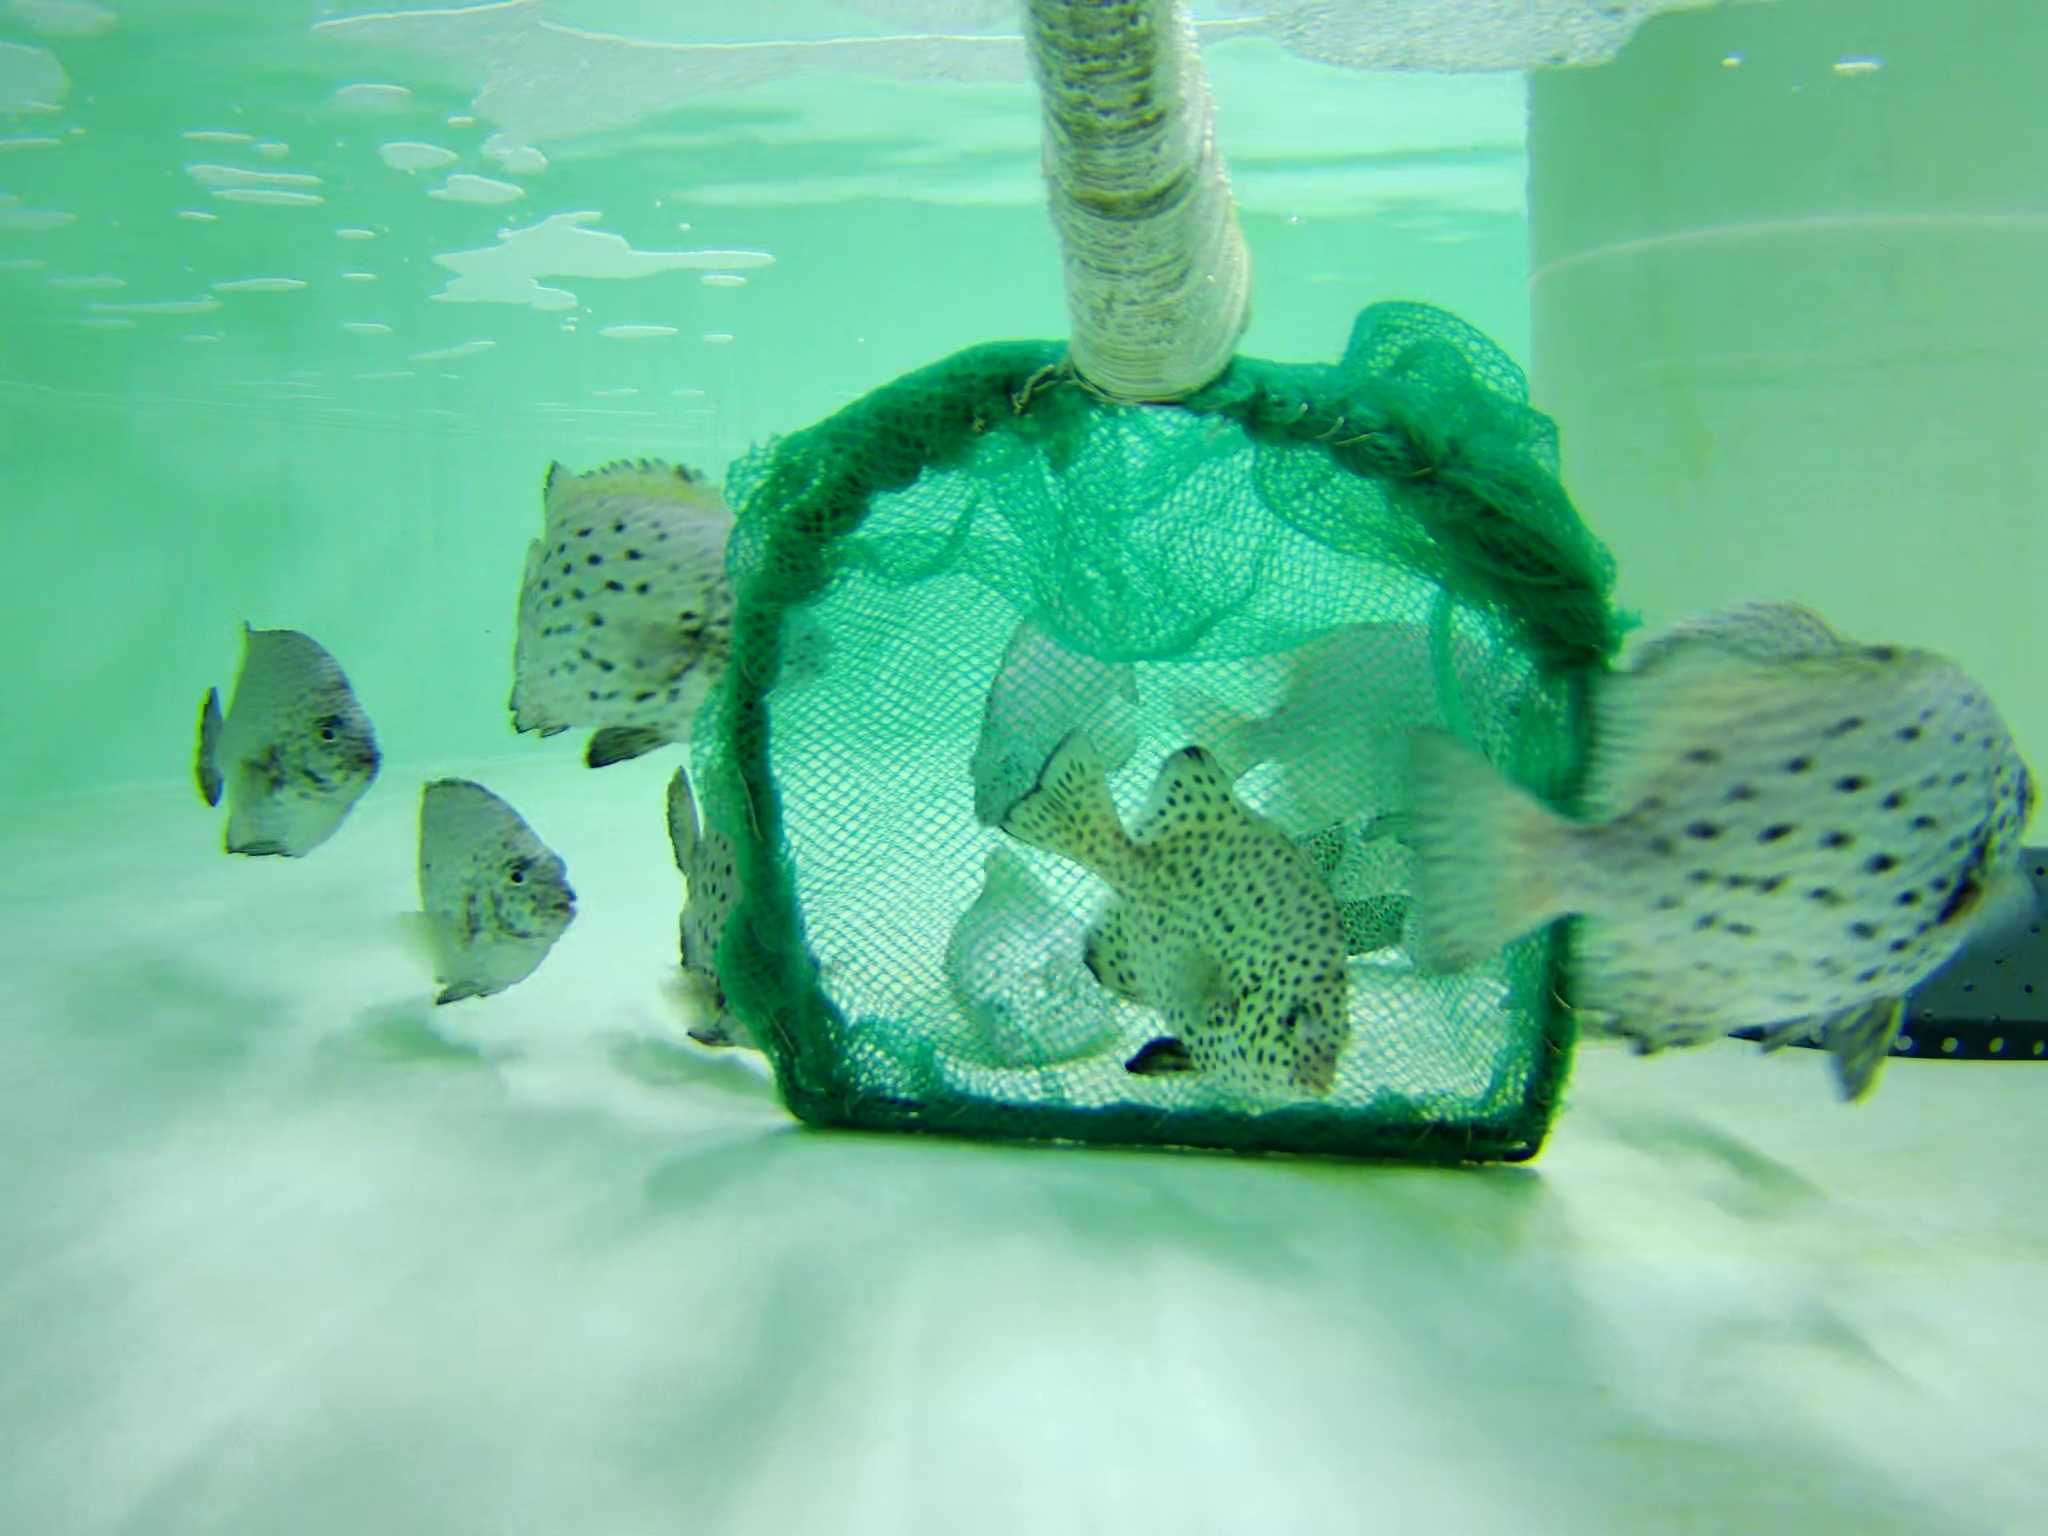fish: (1350, 631, 2048, 1078), (992, 721, 1364, 1105), (492, 439, 832, 757), (1163, 616, 1563, 828), (190, 597, 382, 874), (932, 587, 1145, 829), (934, 833, 1118, 1078), (402, 768, 572, 1023), (640, 776, 779, 1046)
